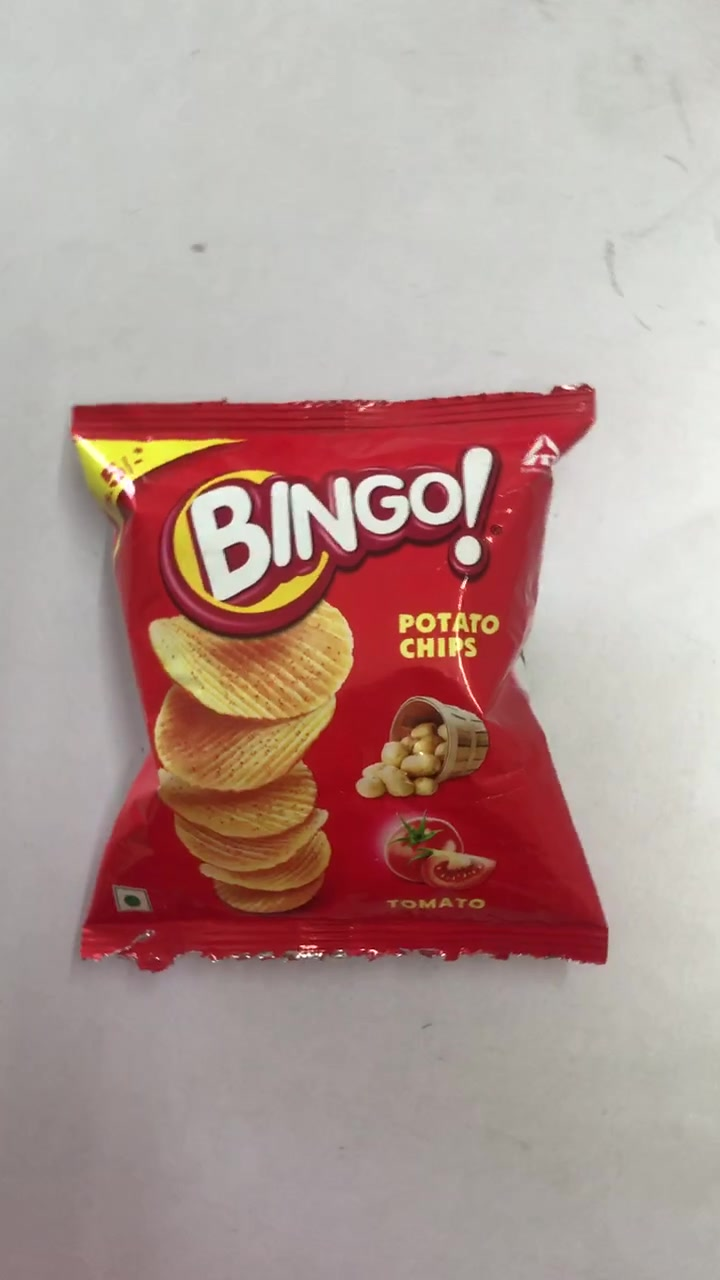Bingo: (64, 409, 616, 973)
